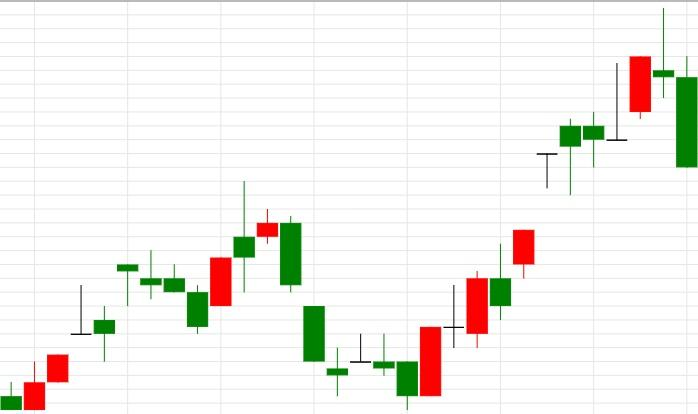hanging_man_fall: (420, 119, 581, 396)
